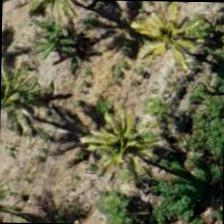Kelapa_Sawit: (76, 92, 168, 184), (125, 0, 216, 75)
